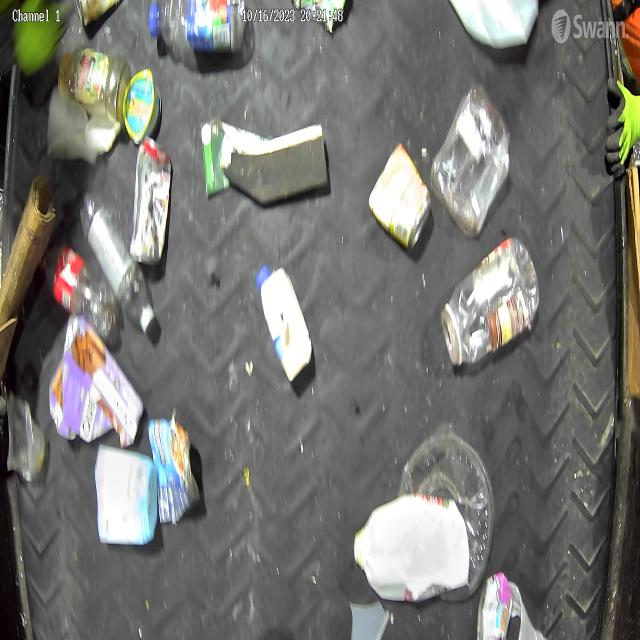can: (368, 144, 433, 252), (147, 418, 200, 527), (129, 135, 172, 266)
milk_jug: (353, 491, 471, 603)
plastic_bottle: (80, 192, 156, 333), (42, 247, 118, 336), (148, 0, 247, 56)
